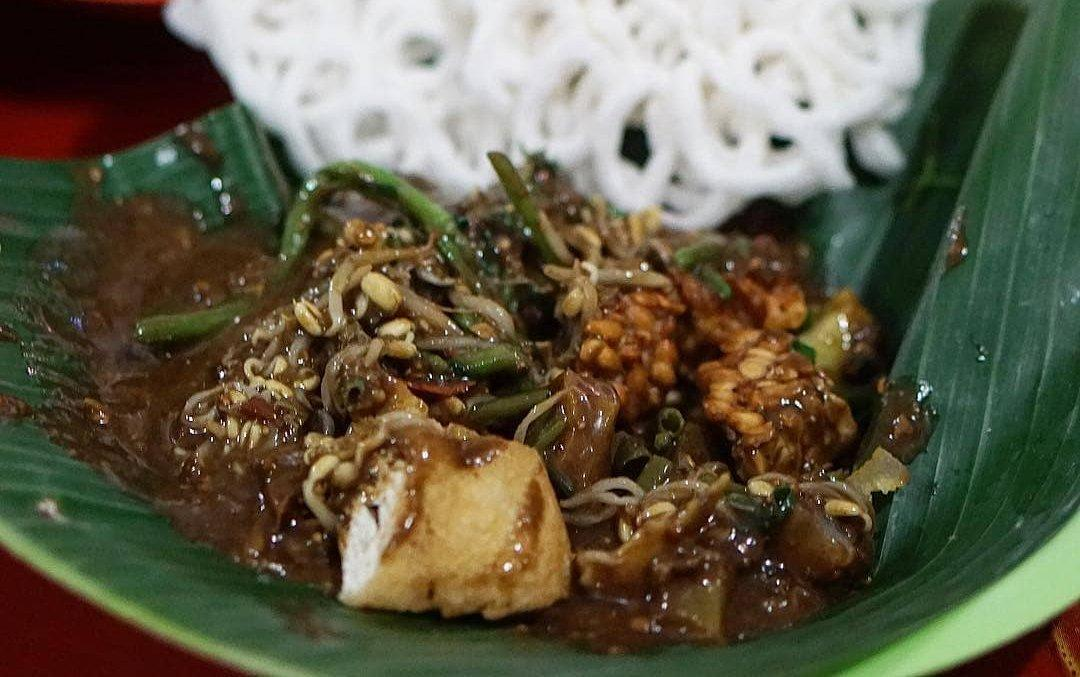rujak_cingur: (24, 158, 941, 656)
